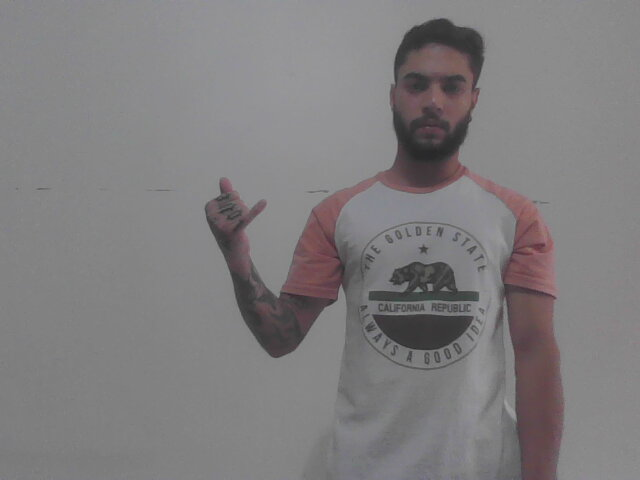j: (192, 172, 273, 253)
